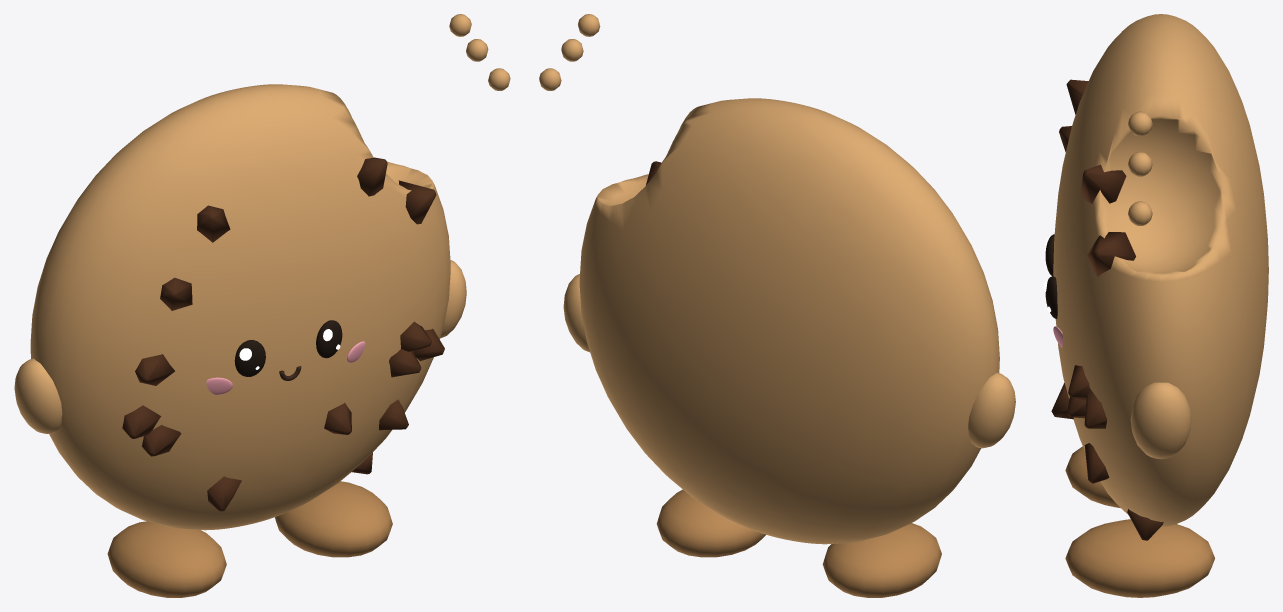
Rendered from cookie.glb.
3 renders of one model, left to right at view 1: azimuth 30°, elevation 25°; view 2: azimuth 150°, elevation 25°; view 3: azimuth 270°, elevation 25°, orthographic. The views are drawn at different scales.
Parts seen in each view (by area): view 1: cookie; view 2: cookie; view 3: cookie.
Part boxes in pixels (x1,y1,x2,y2): cookie: (14,14,510,597); cookie: (539,14,1015,597); cookie: (1044,14,1268,597).
Bounding box in the file's own units: 0.0869 × 0.0864 × 0.0324.
